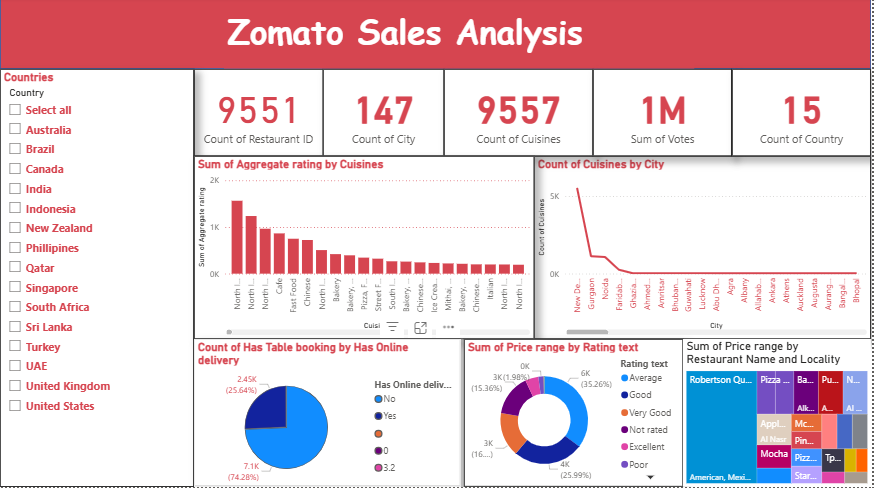

The page's visual inventory and layout, read from the dashboard file:
{"tool":"powerbi","page":{"name":"Page 1","canvas":[1280,720],"ordinal":0},"visuals":[{"type":"lineChart","fields":{"Category":["zomato.City"],"Y":["CountNonNull(zomato.Cuisines)"]},"box":[784.7,233.6,495.2,268.9],"z":0},{"type":"card","fields":{"Values":["CountNonNull(zomato.Restaurant ID)"]},"box":[285.1,105.8,189.6,127.8],"z":1000},{"type":"shape","box":[0,0,1279.8,105.8],"z":2000},{"type":"card","fields":{"Values":["Count(zomato.City)"]},"box":[474.6,105.8,177.8,127.8],"z":3000},{"type":"card","fields":{"Values":["CountNonNull(zomato.Cuisines)"]},"box":[652.4,105.8,218.9,127.8],"z":4000},{"type":"card","fields":{"Values":["Sum(zomato.Votes)"]},"box":[871.3,105.8,204.2,127.8],"z":5000},{"type":"card","fields":{"Values":["CountNonNull(Sheet1.Country)"]},"box":[1075.6,105.8,204.2,127.8],"z":6000},{"type":"textbox","box":[329.1,11.8,690.6,94],"z":7000},{"type":"slicer","title":"Countries","fields":{"Values":["Sheet1.Country"]},"box":[0,105.8,285.1,614.2],"z":8000},{"type":"columnChart","fields":{"Category":["zomato.Cuisines"],"Y":["Sum(zomato.Aggregate rating)"]},"box":[285.1,233.6,499.6,268.9],"z":9000},{"type":"pieChart","fields":{"Category":["zomato.Has Online delivery"],"Y":["CountNonNull(zomato.Has Table booking)"]},"box":[285.1,502.5,392.3,217.5],"z":10000},{"type":"donutChart","fields":{"Category":["zomato.Rating text"],"Y":["Sum(zomato.Price range)"]},"box":[681.8,502.5,321.8,217.5],"z":11000},{"type":"treemap","fields":{"Group":["zomato.Restaurant Name"],"Details":["zomato.Locality"],"Values":["Sum(zomato.Price range)"]},"box":[1003.6,502.5,276.2,217.5],"z":12000}]}

Visuals, with their boxes in screenshot pixels (x1, y1, x2, y2), scaled from the page's 1280x720 canvas onto the 876x488 screenshot:
lineChart - zomato.City x CountNonNull(zomato.Cuisines): 537,158,875,341
card - CountNonNull(zomato.Restaurant ID): 195,72,325,158
shape: 0,0,875,72
card - Count(zomato.City): 325,72,446,158
card - CountNonNull(zomato.Cuisines): 446,72,596,158
card - Sum(zomato.Votes): 596,72,736,158
card - CountNonNull(Sheet1.Country): 736,72,875,158
textbox: 225,8,698,72
"Countries" slicer: 0,72,195,487
columnChart - zomato.Cuisines x Sum(zomato.Aggregate rating): 195,158,537,341
pieChart - zomato.Has Online delivery x CountNonNull(zomato.Has Table booking): 195,341,464,487
donutChart - zomato.Rating text x Sum(zomato.Price range): 467,341,687,487
treemap - zomato.Restaurant Name x zomato.Locality: 687,341,875,487
